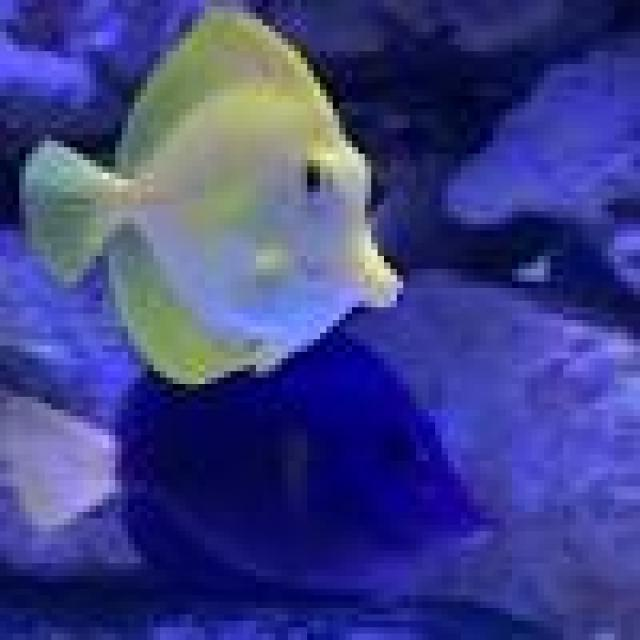YellowTang: (23, 4, 417, 388)
